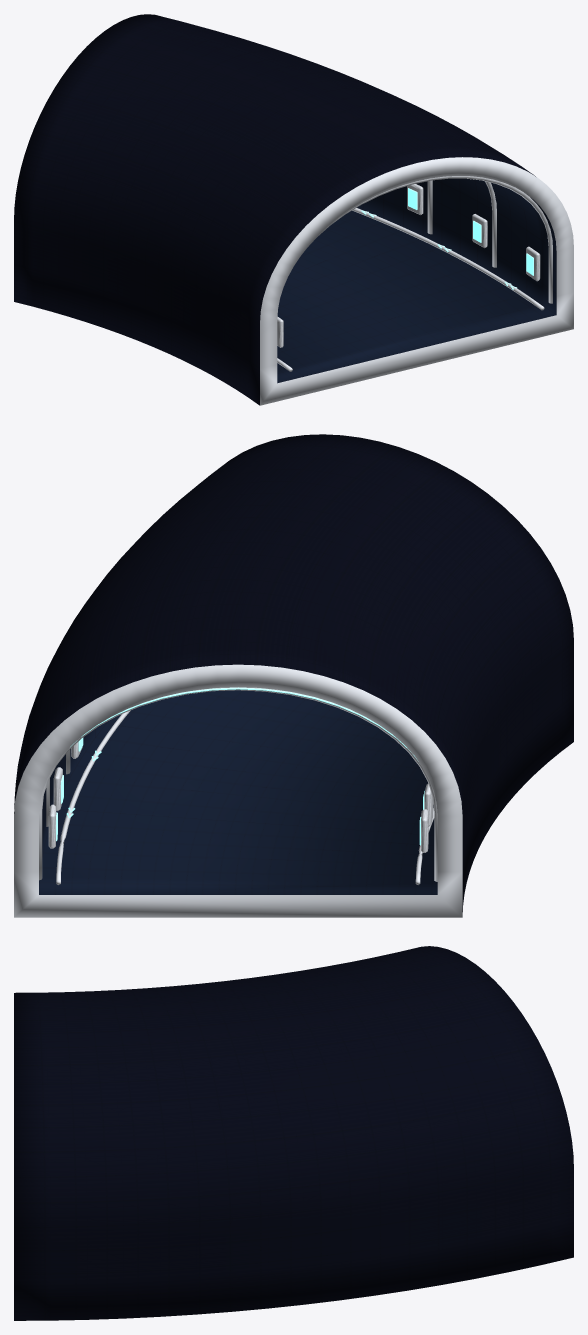
File: curve_left_30_lod1.glb
The picture shows the model from 3 angles, top to bottom: view 1: azimuth 30°, elevation 25°; view 2: azimuth 150°, elevation 25°; view 3: azimuth 270°, elevation 25°; orthographic projection. The views are drawn at different scales.
Parts seen in each view (by area): view 1: TunnelGeometry.001; view 2: TunnelGeometry.001; view 3: TunnelGeometry.001.
Part boxes in pixels (x1,y1,x2,y2): TunnelGeometry.001: [14, 14, 573, 405]; TunnelGeometry.001: [14, 434, 573, 917]; TunnelGeometry.001: [14, 946, 573, 1320].
Bounding box in the file's own units: 19.1 × 9.52 × 21.83.
4 materials, 2 textured.
